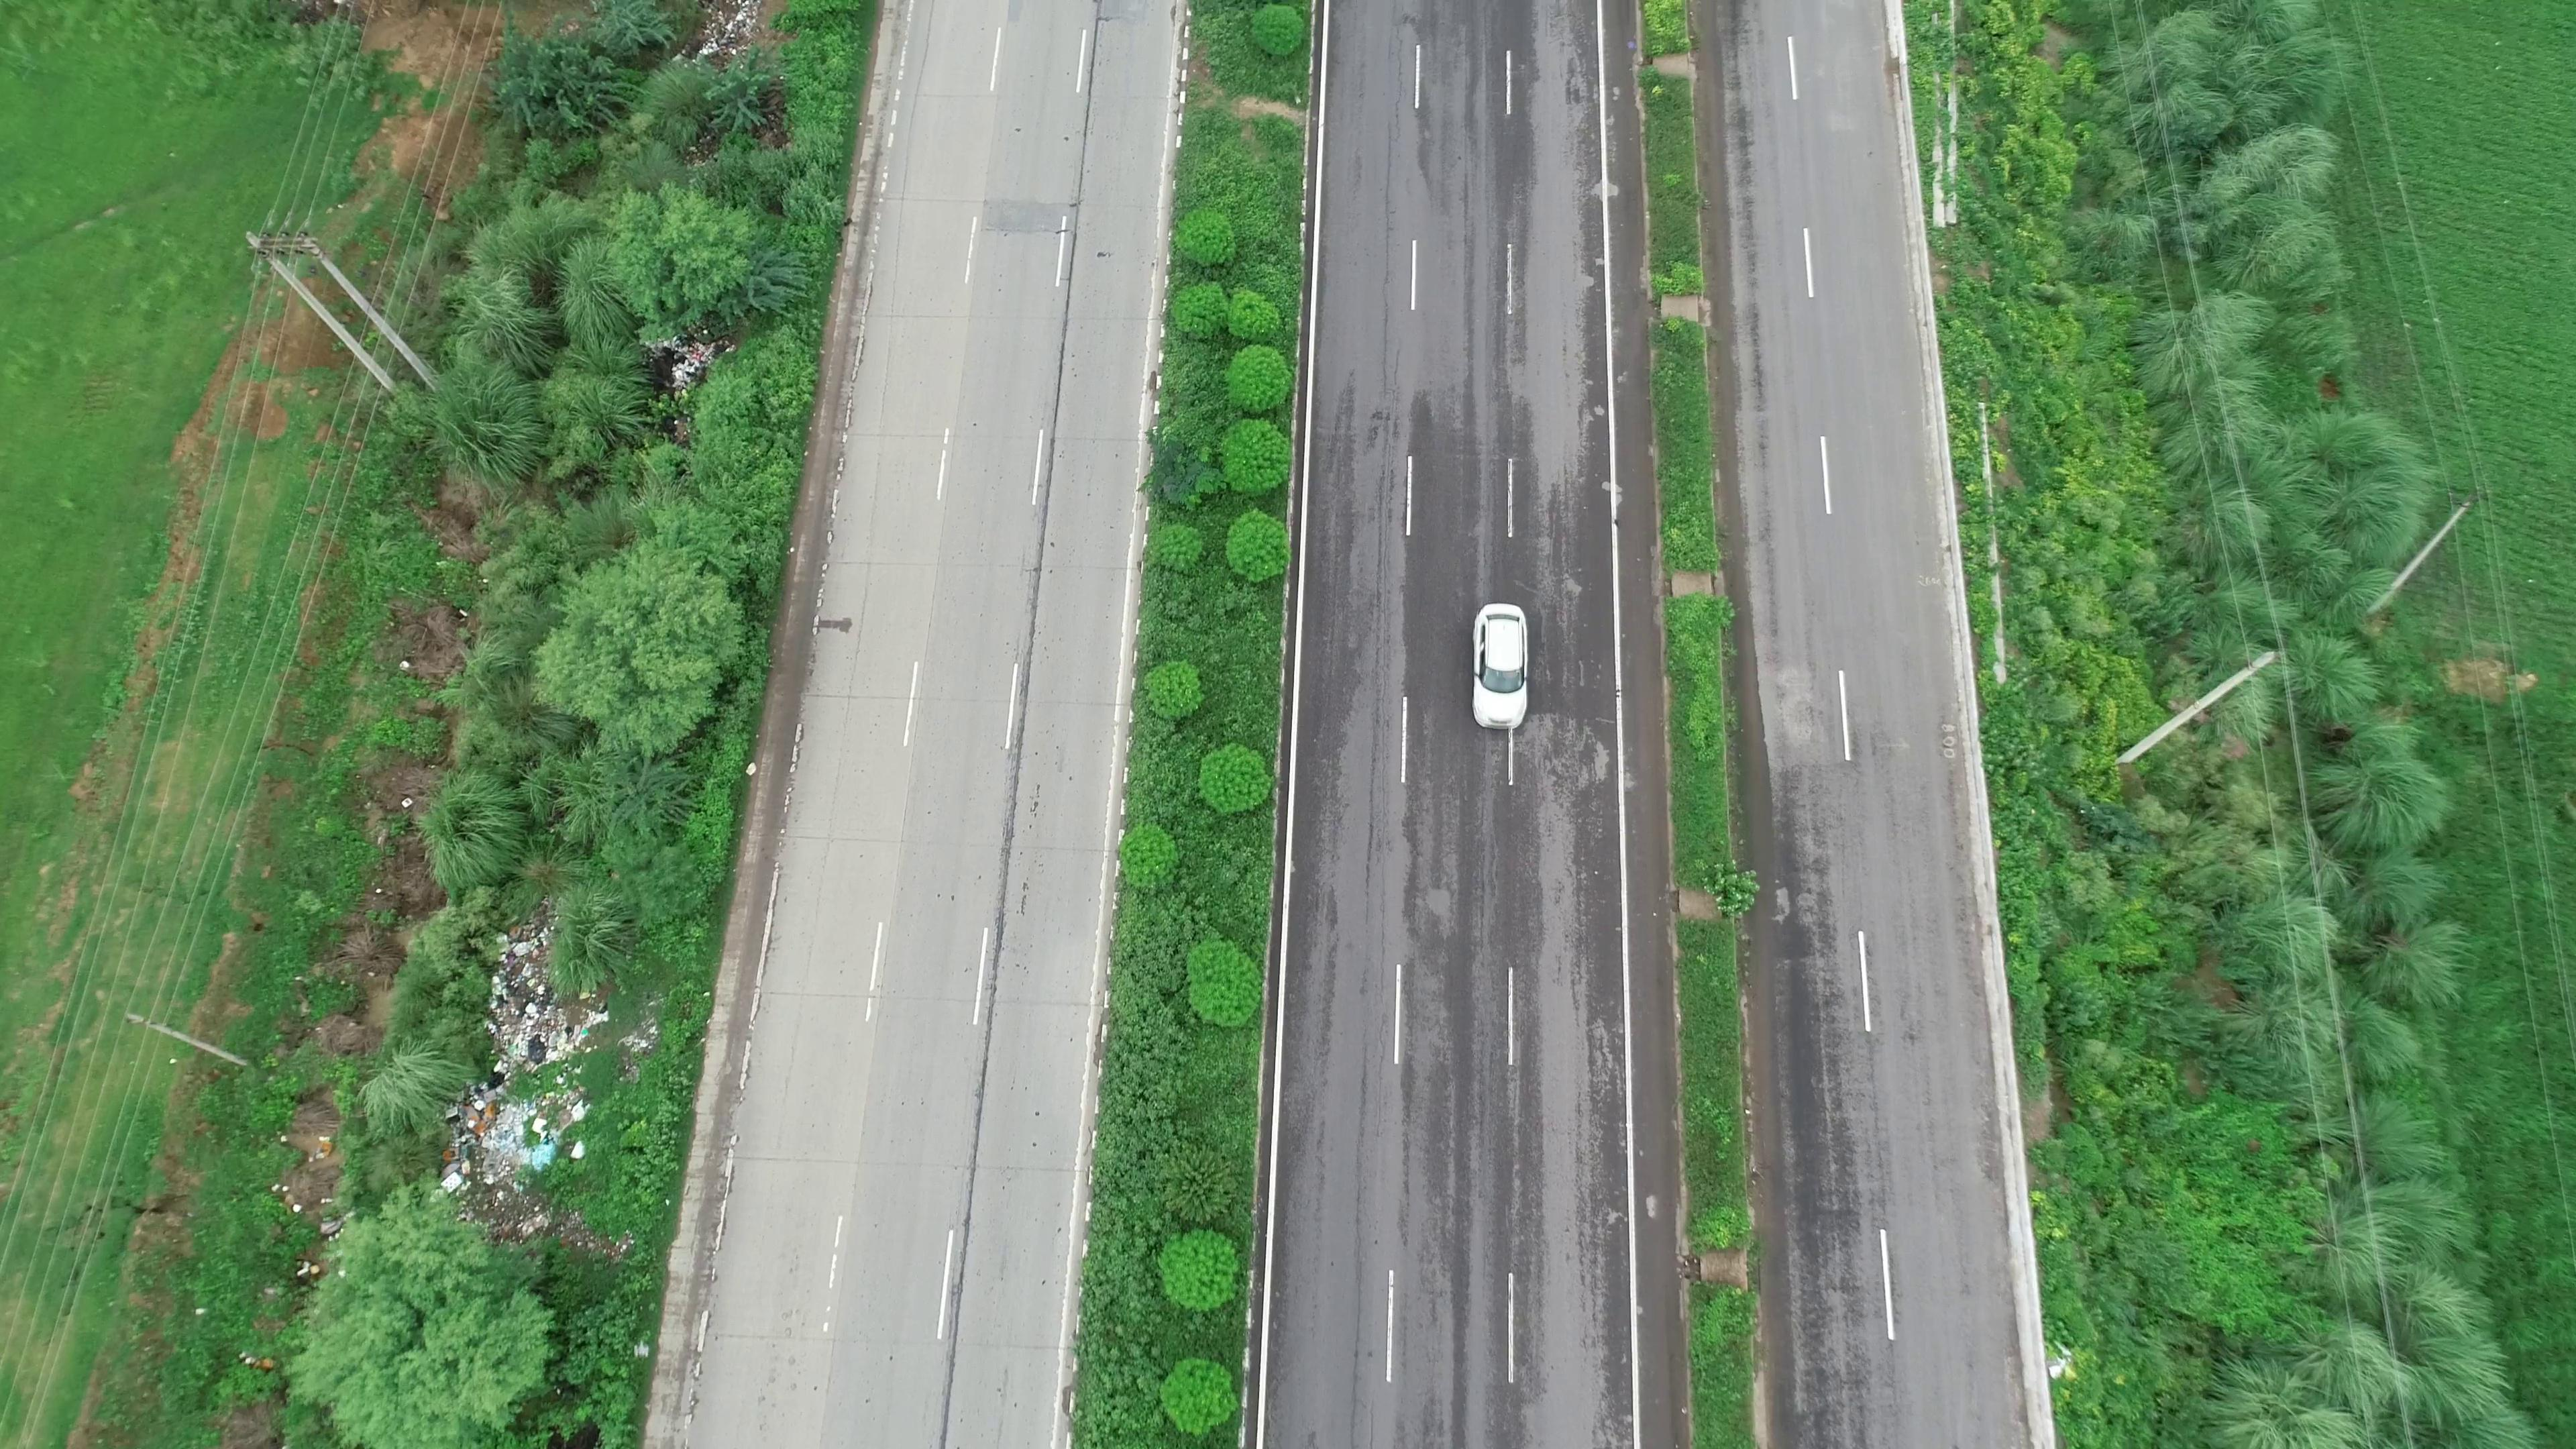Longitudinal_cracks: (1345, 1023, 1385, 1430), (1366, 44, 1408, 389)
Ravelling: (1357, 479, 1399, 865)
